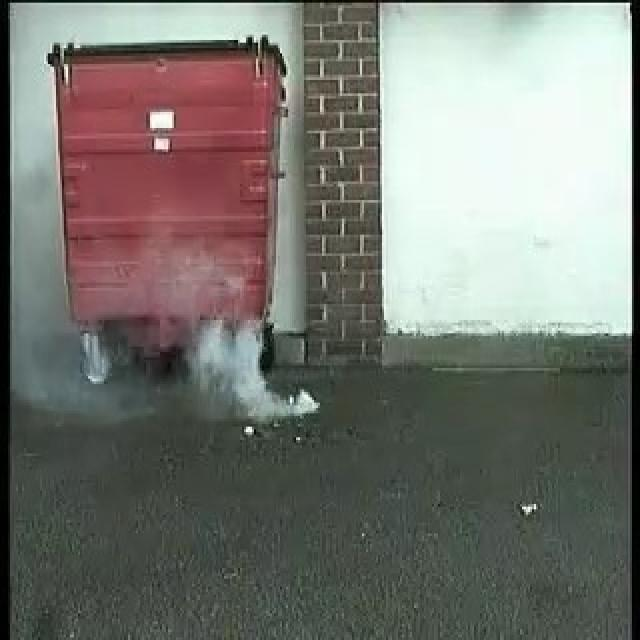Smoke: (187, 324, 316, 424)
